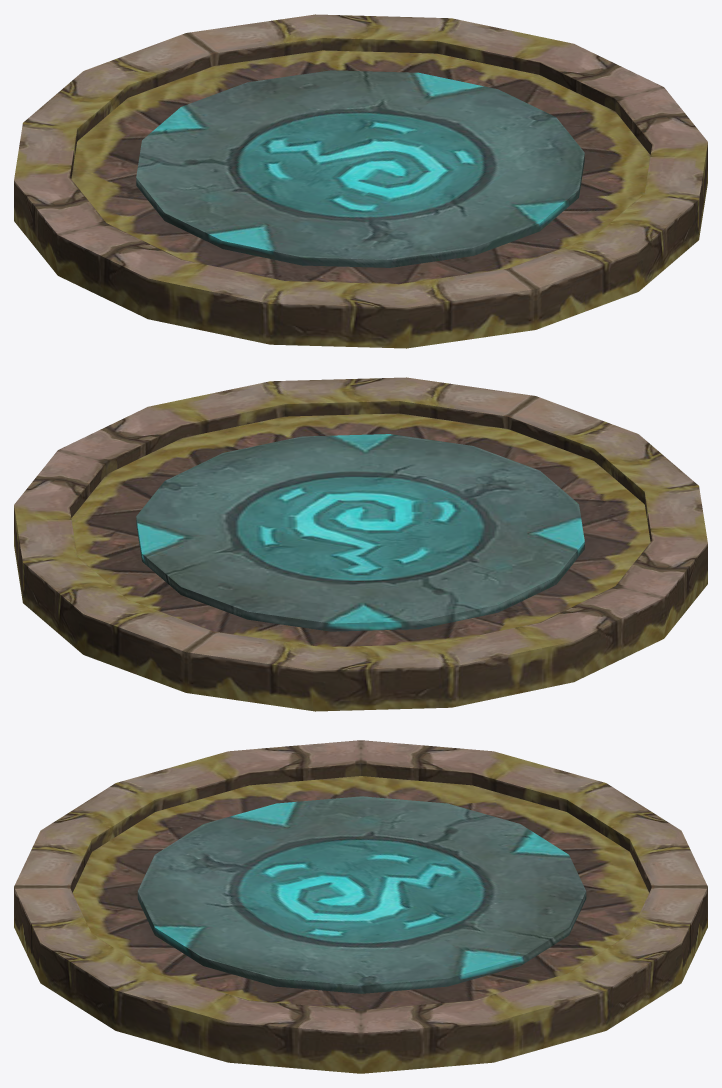
The model's file is Battle05_Table_01.FBX.
3 views of the same model, one above another, from view 1: azimuth 30°, elevation 25°; view 2: azimuth 150°, elevation 25°; view 3: azimuth 270°, elevation 25° (orthographic).
Parts seen in each view (by area): view 1: Battle05_Table_01; view 2: Battle05_Table_01; view 3: Battle05_Table_01.
Part boxes in pixels (x1=…): Battle05_Table_01: x1=14, y1=14, x2=707, y2=348; Battle05_Table_01: x1=14, y1=377, x2=707, y2=711; Battle05_Table_01: x1=14, y1=740, x2=707, y2=1073.
Bounding box in the file's own units: 20.43 × 1.31 × 20.43.
